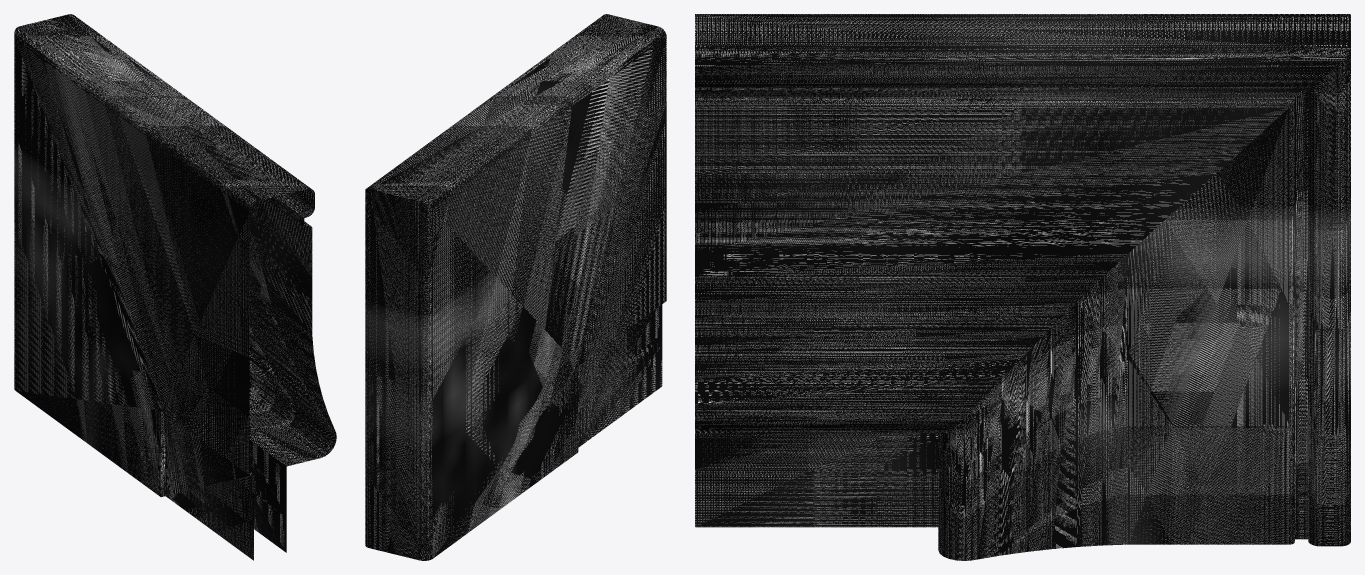
The model's file is original-34.obj.
3 views of the same model, side by side, from view 1: azimuth 30°, elevation 25°; view 2: azimuth 150°, elevation 25°; view 3: azimuth 270°, elevation 25° (orthographic). The views are drawn at different scales.
Visible parts, largest first — view 1: DF_21_TR2/DF_21_TR/mesh18/mesh18-geometry#mesh18-geometry; view 2: DF_21_TR2/DF_21_TR/mesh18/mesh18-geometry#mesh18-geometry; view 3: DF_21_TR2/DF_21_TR/mesh18/mesh18-geometry#mesh18-geometry.
Part boxes in pixels (x1,y1,x2,y2): DF_21_TR2/DF_21_TR/mesh18/mesh18-geometry#mesh18-geometry: [14, 14, 336, 560]; DF_21_TR2/DF_21_TR/mesh18/mesh18-geometry#mesh18-geometry: [365, 14, 666, 560]; DF_21_TR2/DF_21_TR/mesh18/mesh18-geometry#mesh18-geometry: [695, 14, 1350, 560].
Bounding box in the file's own units: 0.0232 × 0.0912 × 0.11.
